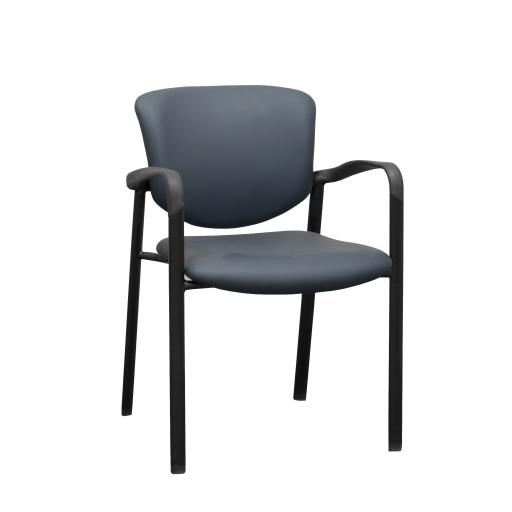chair: (121, 85, 404, 475)
